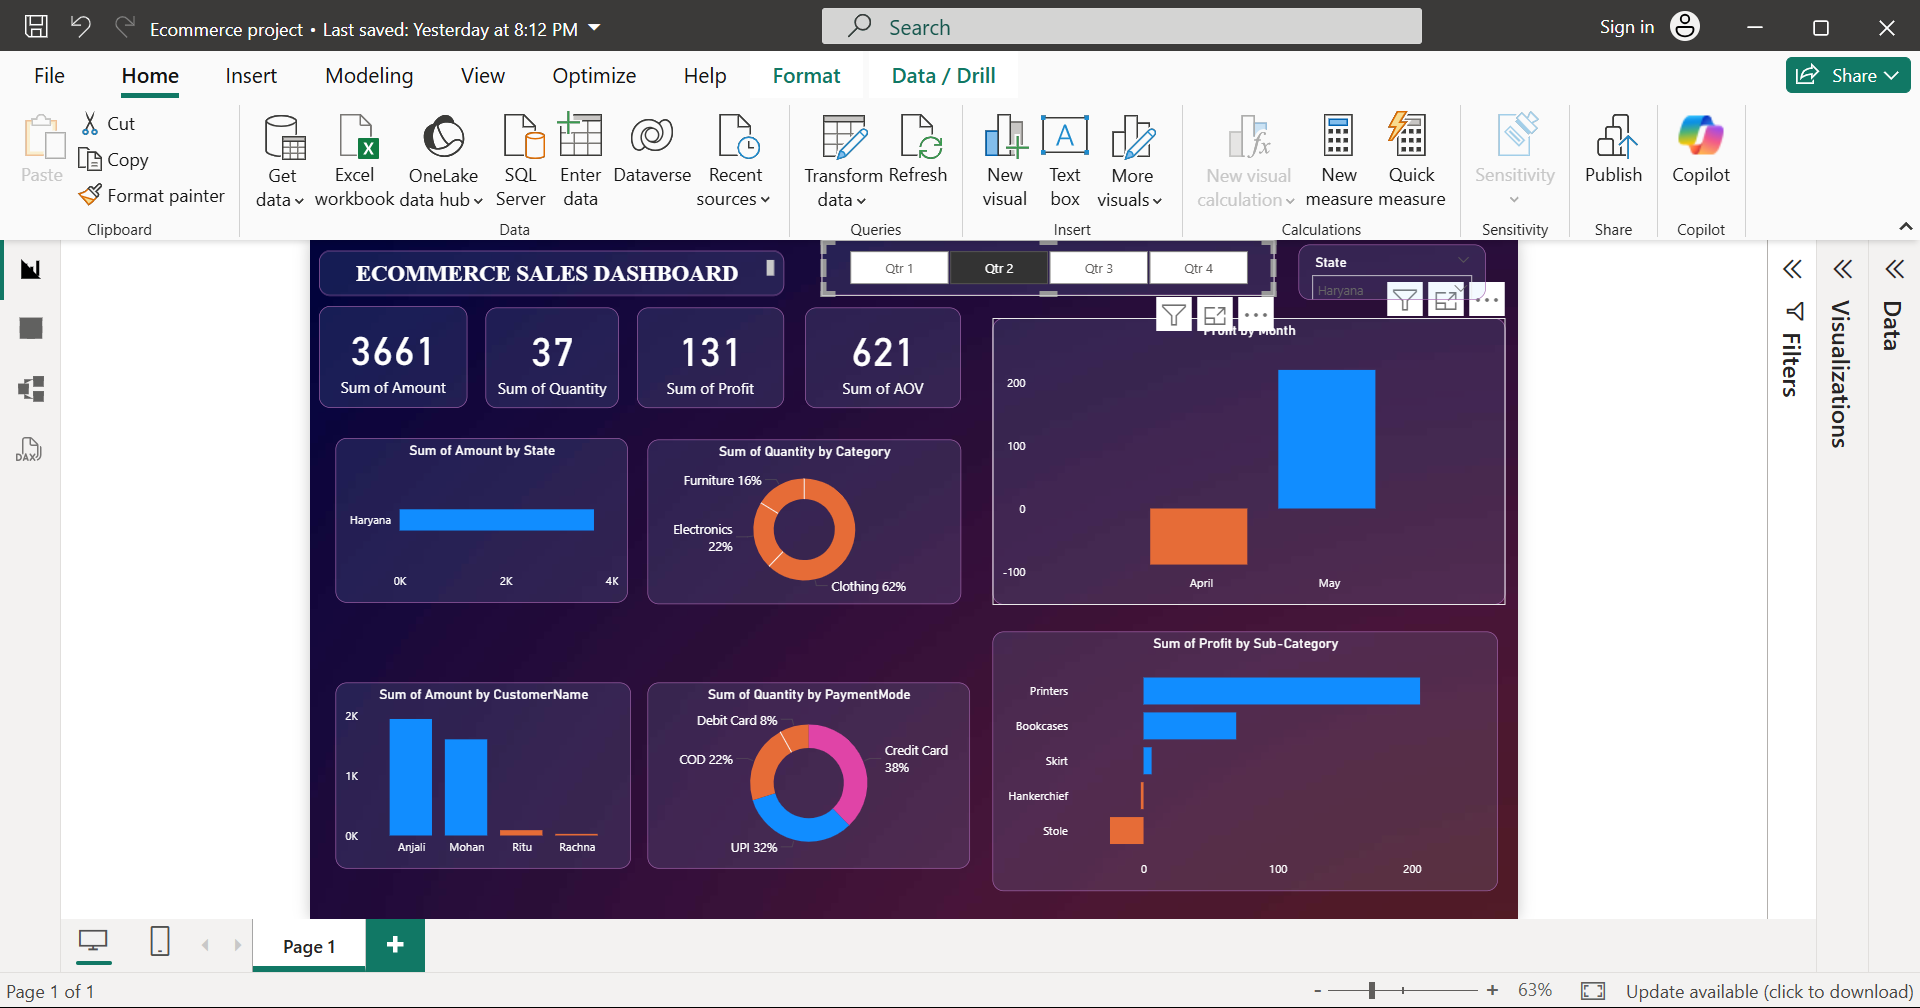

This screenshot's page, from the dashboard's own definition file:
{"tool":"powerbi","page":{"name":"Page 1","canvas":[1280,720],"ordinal":0},"visuals":[{"type":"textbox","box":[9.5,11.1,493.1,47.7],"z":0},{"type":"columnChart","title":"Profit by Month","fields":{"Y":["Sum(Details.Profit)"],"Category":["Orders.Order Date.Variation.Date Hierarchy.Month"]},"box":[723.7,82.7,544,303.8],"z":1000},{"type":"barChart","fields":{"Category":["Details.Sub-Category"],"Y":["Sum(Details.Profit)"]},"box":[723.7,415.1,536,275.2],"z":2000},{"type":"donutChart","fields":{"Category":["Details.Category"],"Y":["Sum(Details.Quantity)"]},"box":[357.9,211.6,332.4,175],"z":3000},{"type":"donutChart","fields":{"Category":["Details.PaymentMode"],"Y":["Sum(Details.Quantity)"]},"box":[357.9,469.2,342,197.2],"z":4000},{"type":"card","fields":{"Values":["Sum(Details.Amount)"]},"box":[9.5,70,157.5,108.2],"z":5000},{"type":"card","fields":{"Values":["Sum(Details.Quantity)"]},"box":[186.1,71.6,141.6,106.6],"z":6000},{"type":"card","fields":{"Values":["Sum(Details.Profit)"]},"box":[346.8,71.6,155.9,106.6],"z":7000},{"type":"card","fields":{"Values":["Sum(Details.AOV)"]},"box":[524.9,71.6,165.4,106.6],"z":8000},{"type":"barChart","fields":{"Y":["Sum(Details.Amount)"],"Category":["Orders.State"]},"box":[27,210,310.2,175],"z":9000},{"type":"columnChart","fields":{"Category":["Orders.CustomerName"],"Y":["Sum(Details.Amount)"]},"box":[27,469.2,313.4,197.2],"z":10000},{"type":"slicer","fields":{"Values":["Orders.Order Date.Variation.Date Hierarchy.Quarter"]},"box":[542.4,0,480.4,58.9],"z":11000},{"type":"slicer","fields":{"Values":["Orders.State"]},"box":[1048.2,4.8,198.8,58.9],"z":12000}]}

Visuals, with their boxes on the page's 1280x720 design canvas (x1, y1, x2, y2). These are canvas units, not pixel positions in the 1920x1008 screenshot, which may show the page scaled, cropped or inside an application window:
textbox: [10,11,503,59]
"Profit by Month" columnChart: [724,83,1268,386]
barChart - Details.Sub-Category x Sum(Details.Profit): [724,415,1260,690]
donutChart - Details.Category x Sum(Details.Quantity): [358,212,690,387]
donutChart - Details.PaymentMode x Sum(Details.Quantity): [358,469,700,666]
card - Sum(Details.Amount): [10,70,167,178]
card - Sum(Details.Quantity): [186,72,328,178]
card - Sum(Details.Profit): [347,72,503,178]
card - Sum(Details.AOV): [525,72,690,178]
barChart - Sum(Details.Amount) x Orders.State: [27,210,337,385]
columnChart - Orders.CustomerName x Sum(Details.Amount): [27,469,340,666]
slicer - Orders.Order Date.Variation.Date Hierarchy.Quarter: [542,0,1023,59]
slicer - Orders.State: [1048,5,1247,64]
